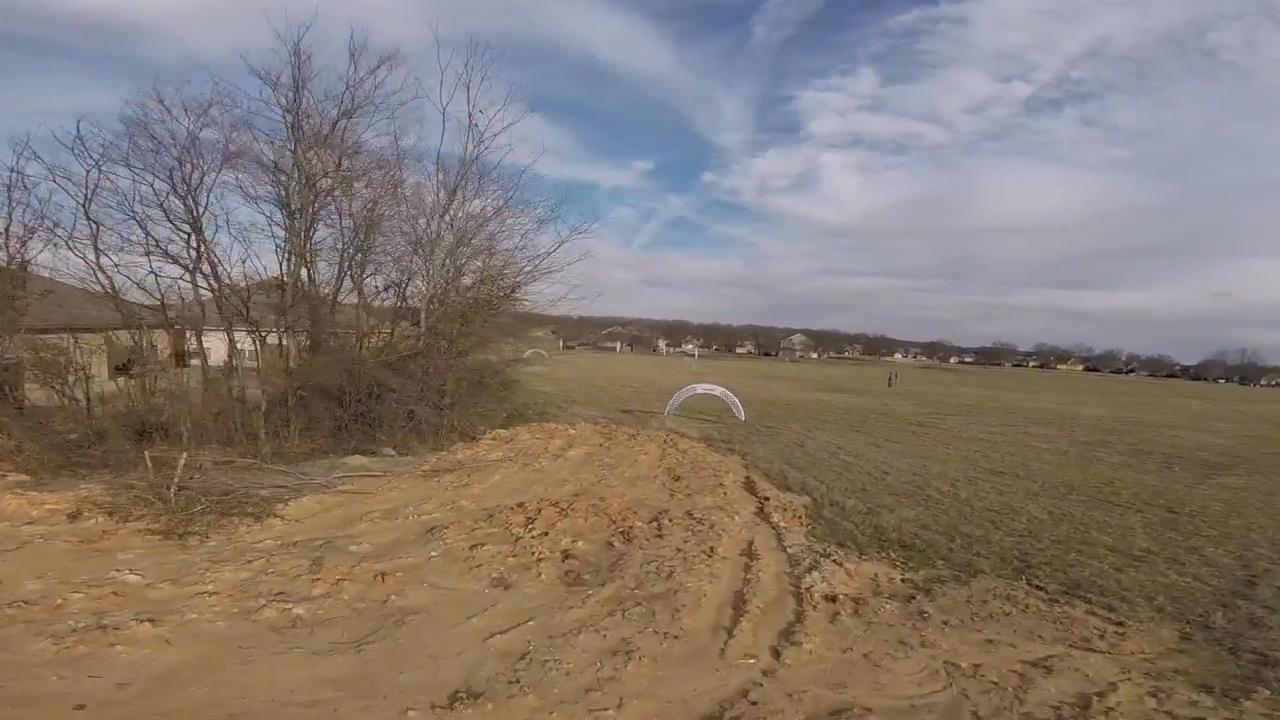gate: (662, 381, 748, 430)
